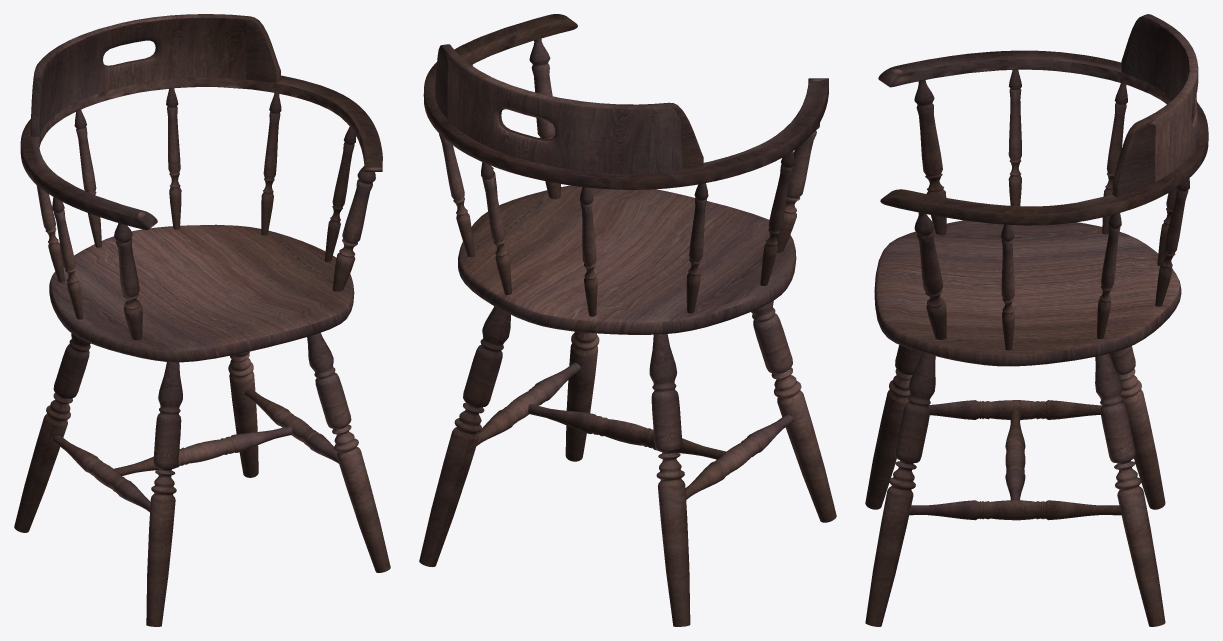
The model's file is chair_10.fbx.
3 renders of one model, left to right at view 1: azimuth 30°, elevation 25°; view 2: azimuth 150°, elevation 25°; view 3: azimuth 270°, elevation 25°, orthographic. The views are drawn at different scales.
Visible parts, largest first — view 1: 08; view 2: 08; view 3: 08.
Part boxes in pixels (x1=…): 08: x1=14, y1=14, x2=390, y2=626; 08: x1=419, y1=14, x2=836, y2=626; 08: x1=865, y1=14, x2=1208, y2=626.
Size of the model in its own units: 59.09 by 83.65 by 52.15.
